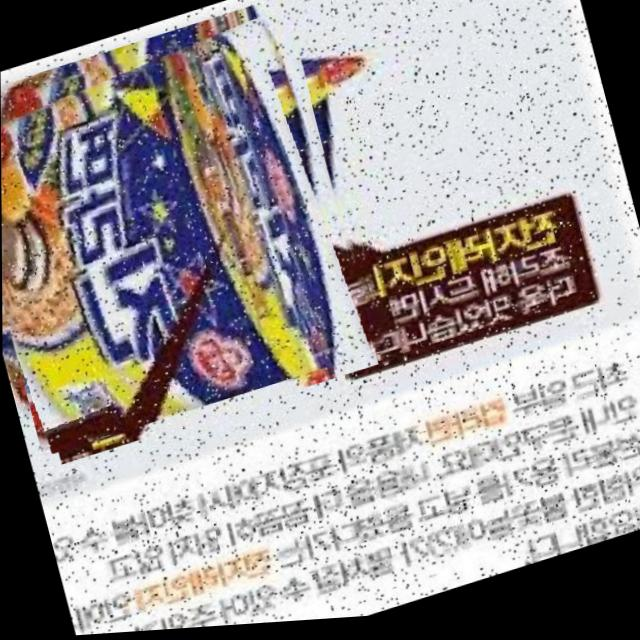Miscellaneous: (0, 2, 390, 458)
